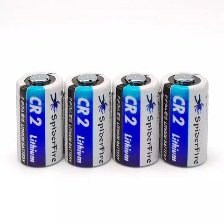battery: (109, 68, 163, 169), (12, 69, 66, 170), (61, 68, 113, 170), (158, 67, 210, 168)
